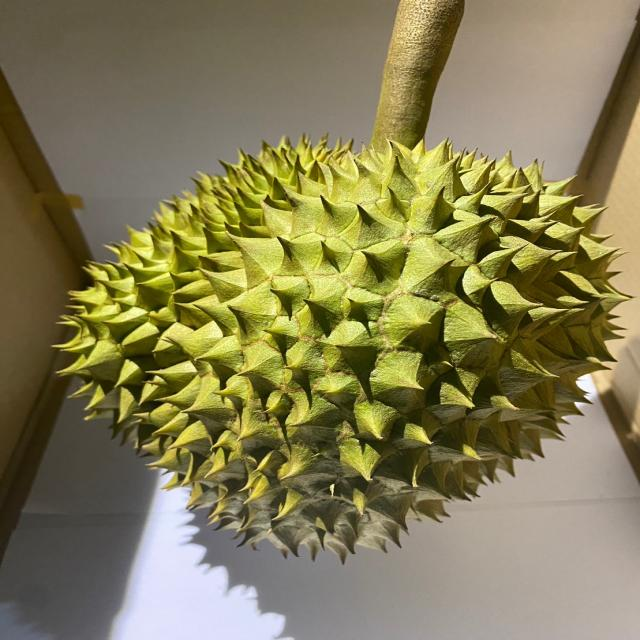immature: (48, 127, 636, 560)
